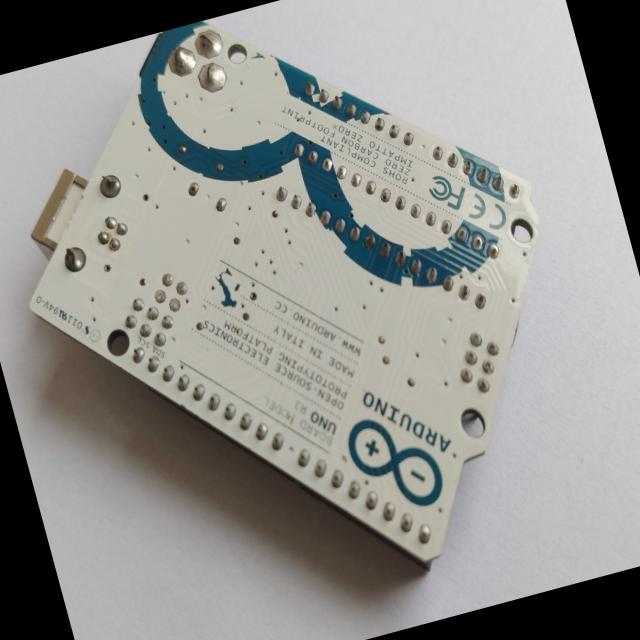arduino: (0, 0, 616, 640)
